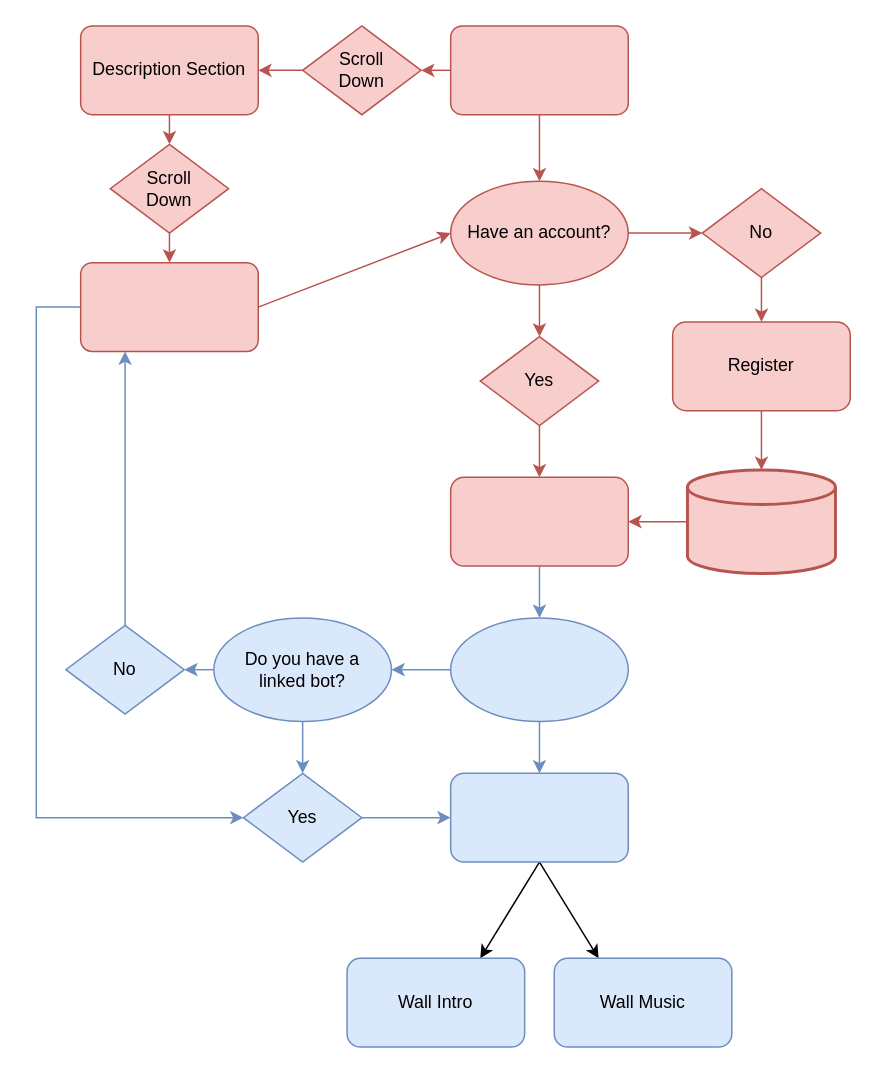
Some shapes in this 876 by 1073 pixel diagram are drawn without their labels. Each missing label, with the centre of its shape:
"Dashboard" belongs at point 538,817.
"Firebase" belongs at point 760,521.
"Login" belongs at point 538,521.
"Setup Instructions" belongs at point 168,306.
"Splash Page" belongs at point 538,69.
"User is logged in at this point" belongs at point 538,669.
